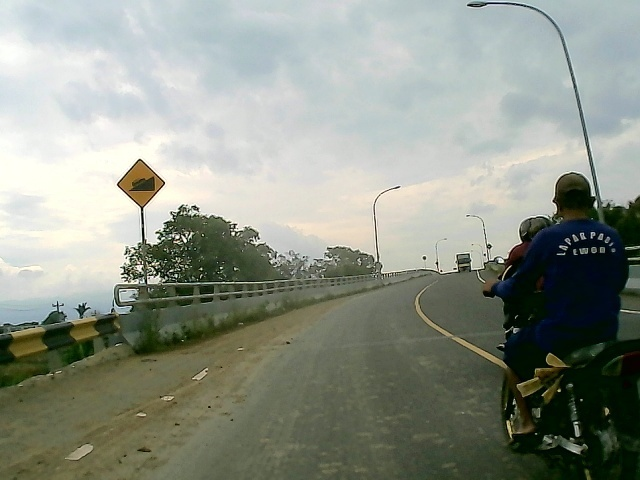Jalanan menanjak: (112, 157, 170, 211)
